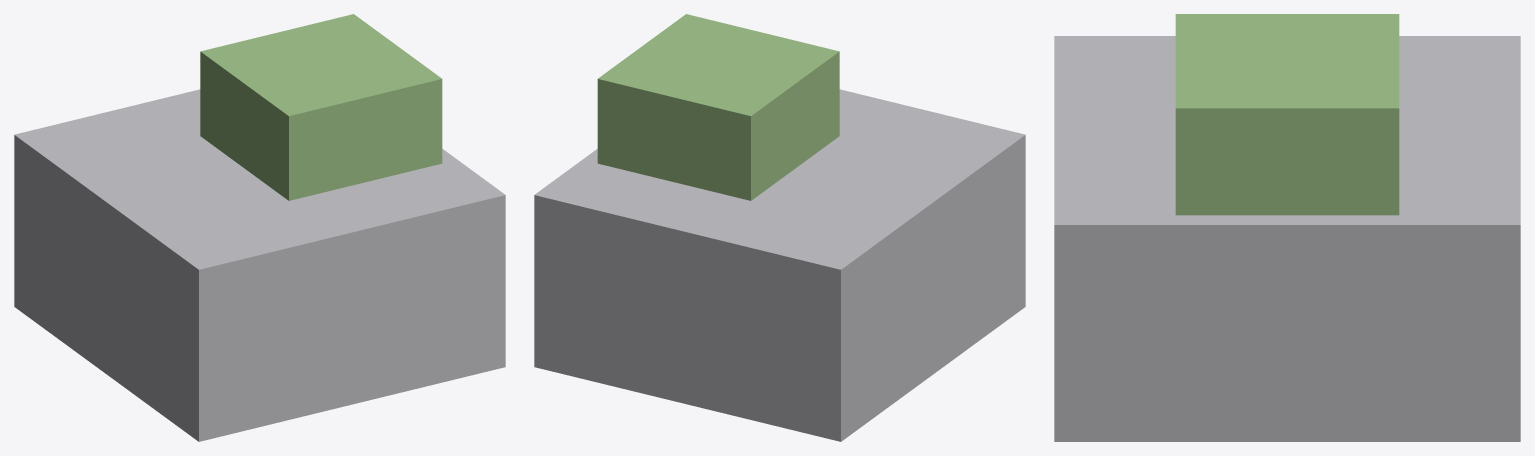
The model's file is Prop_Dress_AMF_Rock_V6.glb.
3 renders of one model, left to right at view 1: azimuth 30°, elevation 25°; view 2: azimuth 150°, elevation 25°; view 3: azimuth 270°, elevation 25°, orthographic. The views are drawn at different scales.
Parts seen in each view (by area): view 1: Prop_Dress_AMF_Rock_V6; view 2: Prop_Dress_AMF_Rock_V6; view 3: Prop_Dress_AMF_Rock_V6.
Boxes of the visible parts, <box> form: Prop_Dress_AMF_Rock_V6: <box>14,14,505,441</box>; Prop_Dress_AMF_Rock_V6: <box>534,14,1025,441</box>; Prop_Dress_AMF_Rock_V6: <box>1054,14,1520,441</box>.
Bounding box in the file's own units: 1.4 × 1.12 × 1.46.
